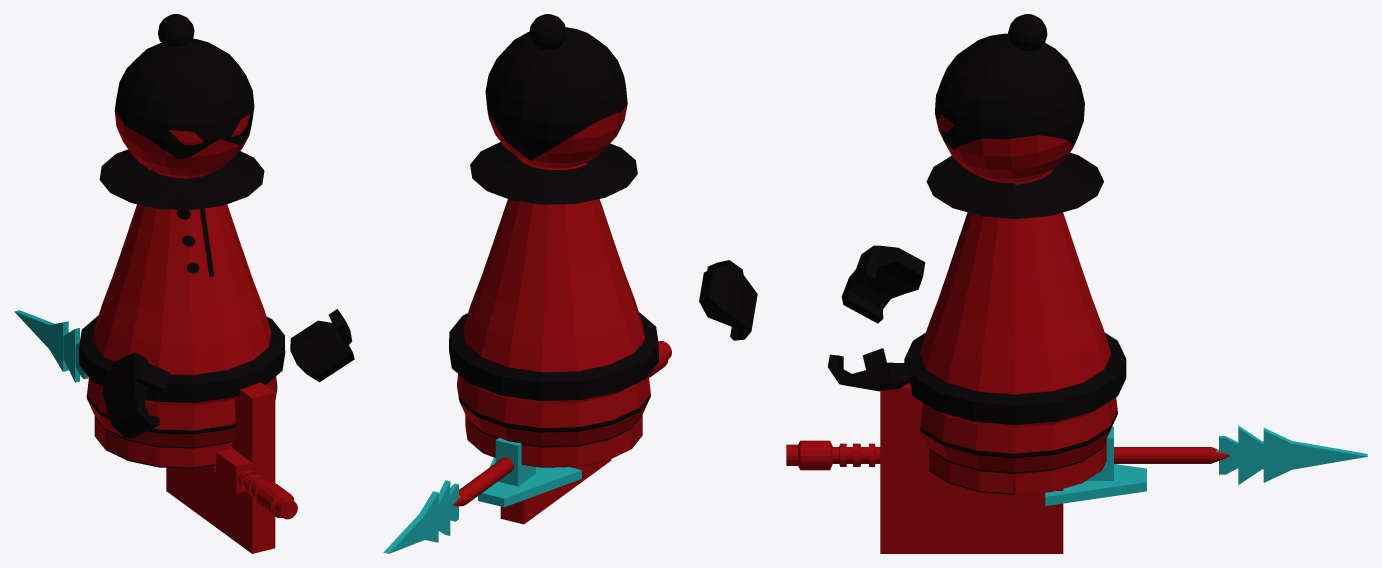
Rendered from redpawnhammer.0.5.5.obj.
The picture shows the model from 3 angles, left to right: view 1: azimuth 30°, elevation 25°; view 2: azimuth 150°, elevation 25°; view 3: azimuth 270°, elevation 25°; orthographic projection. The views are drawn at different scales.
Visible parts, largest first — view 1: pawnmesh_Cube, Cube_Cube.004, spear_Cylinder.002; view 2: pawnmesh_Cube, spear_Cylinder.002, Cube.001_Cube.003, Cube_Cube.004, hammer_Cylinder; view 3: pawnmesh_Cube, Cube_Cube.004, spear_Cylinder.002, Cube.001_Cube.003.
Boxes of the visible parts, box(x1,y1,x2,y2) form: pawnmesh_Cube: box(79, 14, 354, 468); Cube_Cube.004: box(166, 382, 275, 553); spear_Cylinder.002: box(14, 310, 297, 519); pawnmesh_Cube: box(449, 14, 757, 467); spear_Cylinder.002: box(383, 341, 671, 553); Cube.001_Cube.003: box(478, 457, 581, 507); Cube_Cube.004: box(500, 459, 611, 524); hammer_Cylinder: box(495, 438, 535, 486); pawnmesh_Cube: box(827, 14, 1126, 494); Cube_Cube.004: box(880, 383, 1063, 553); spear_Cylinder.002: box(786, 425, 1367, 484); Cube.001_Cube.003: box(1045, 464, 1146, 505).
Size of the model in its own units: 0.9611 by 1.9 by 1.92.
